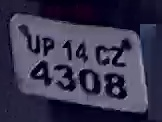0: (75, 67, 104, 98)
1: (59, 39, 75, 62)
3: (52, 62, 78, 93)
4: (27, 59, 55, 90), (75, 42, 90, 63)
8: (104, 70, 129, 104)
C: (94, 44, 111, 69)
P: (41, 38, 57, 59)
U: (26, 33, 42, 56)
Z: (110, 46, 127, 69)
